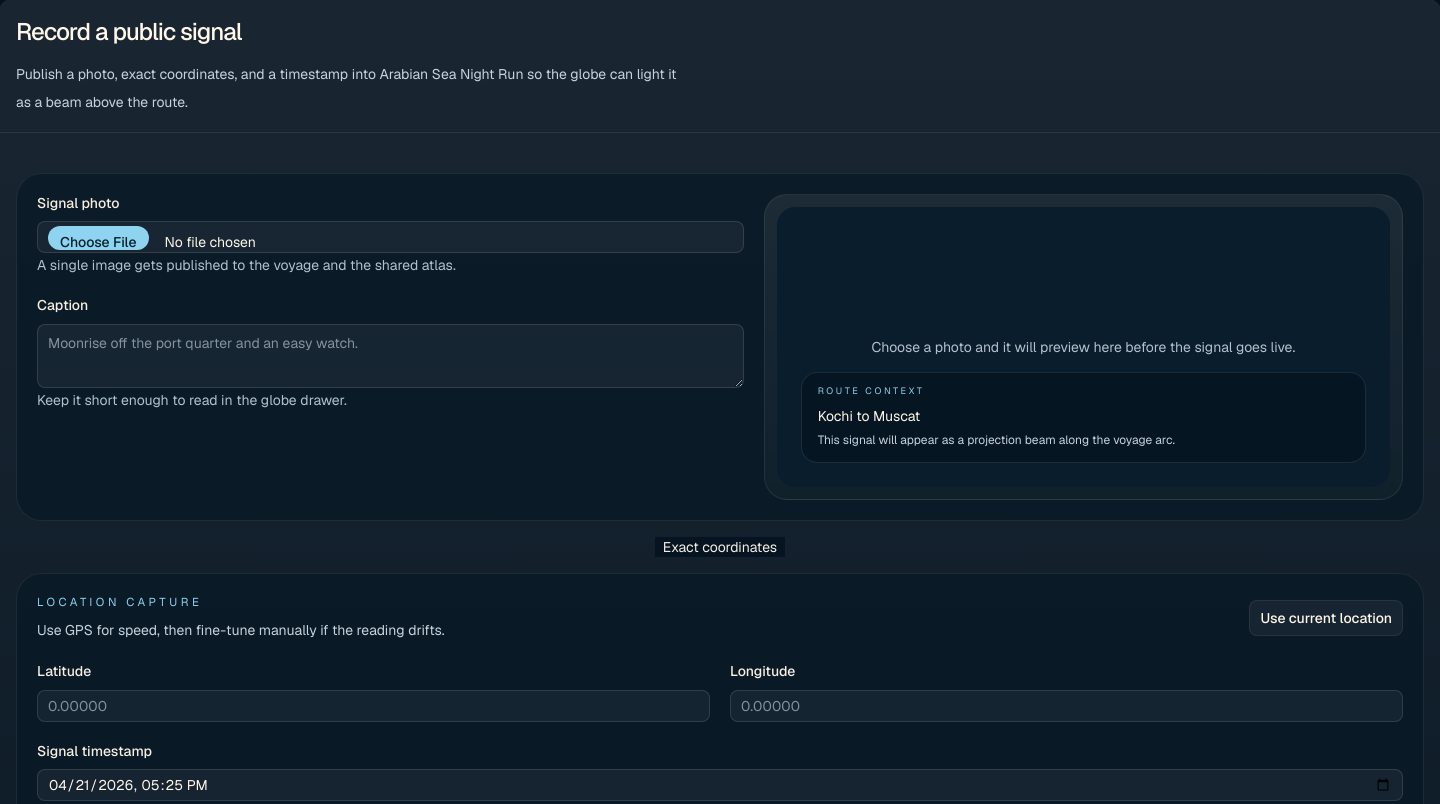
Test: PostForm › fills coordinates from the browser geolocation API
Click the button "Use current location" at (1326, 618), box [1249,600,1403,636]
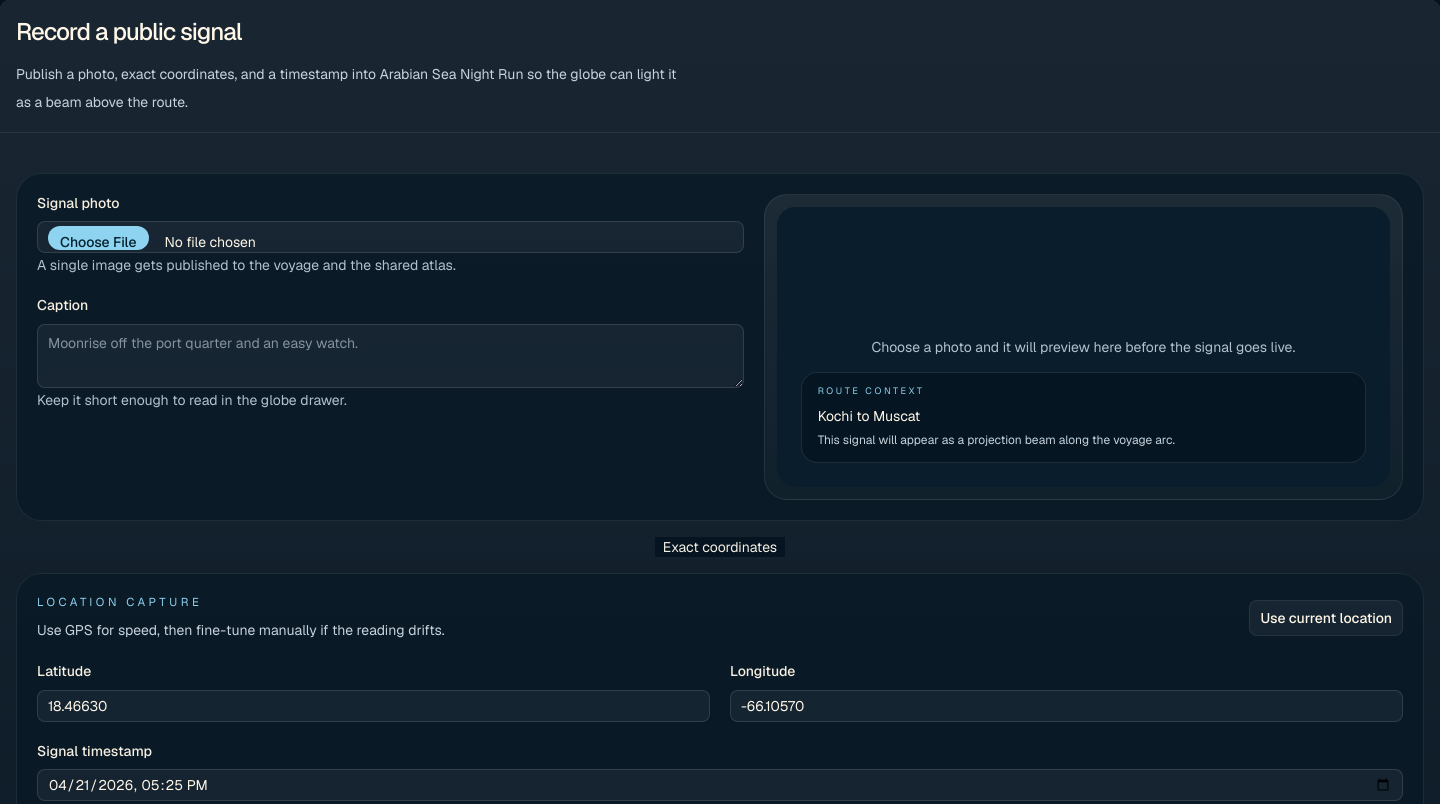
Now the number field labelled "Latitude" holds "18.4663", box [37,690,710,722]
Now the number field labelled "Longitude" holds "-66.1057", box [730,690,1403,722]
